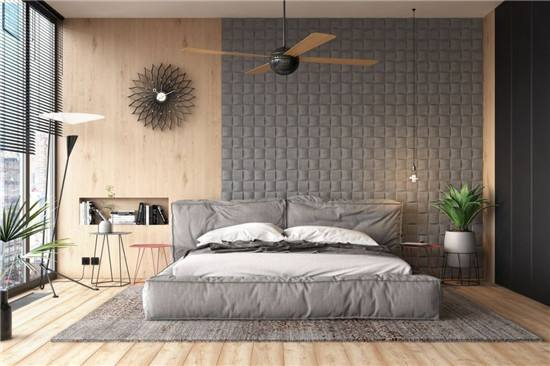床: (140, 236, 441, 329)
枕头: (195, 218, 383, 260)
灯: (406, 173, 420, 187)
